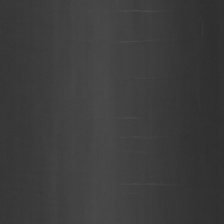waist_folding: (114, 25, 180, 208)
